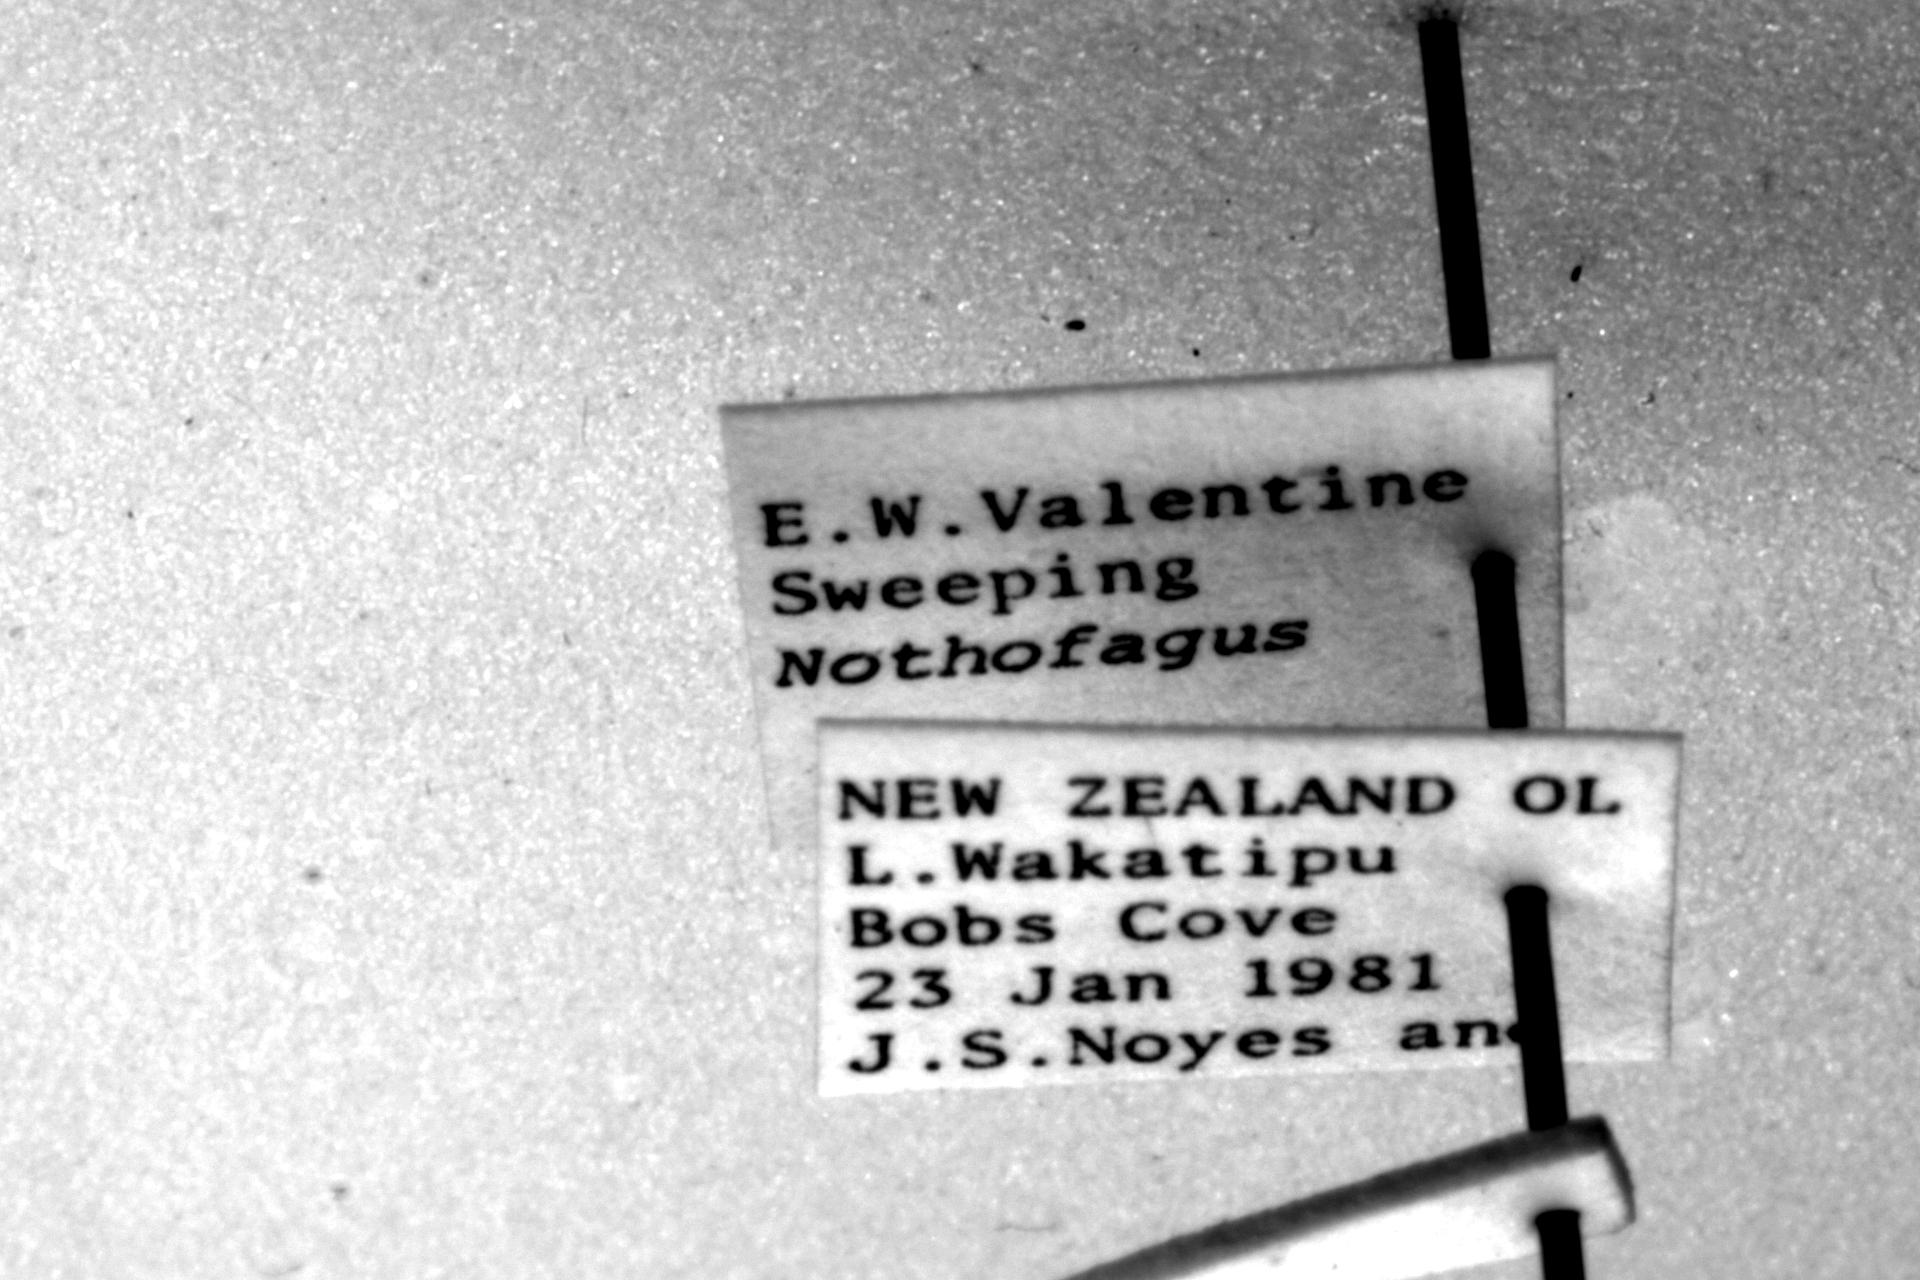typed_label: (720, 360, 1564, 844), (817, 724, 1680, 1094)
